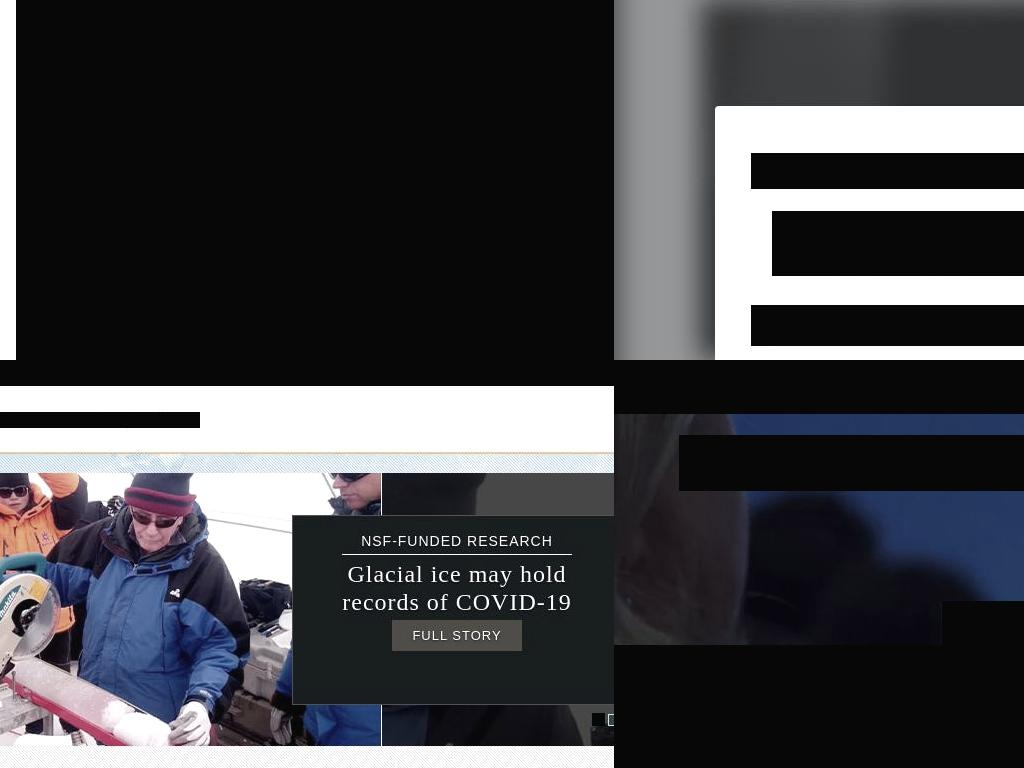button: (16, 0, 614, 360), (942, 601, 1024, 645)
heading: (614, 360, 1024, 414), (679, 435, 1024, 491), (751, 153, 1024, 189)
iframe: (751, 305, 1024, 346)
image: (16, 0, 614, 360)
link: (0, 412, 200, 428), (994, 259, 1018, 276)
text: (614, 645, 1024, 768), (772, 211, 1024, 276), (0, 360, 614, 386), (592, 713, 605, 726), (608, 713, 614, 726), (1017, 259, 1021, 276)
